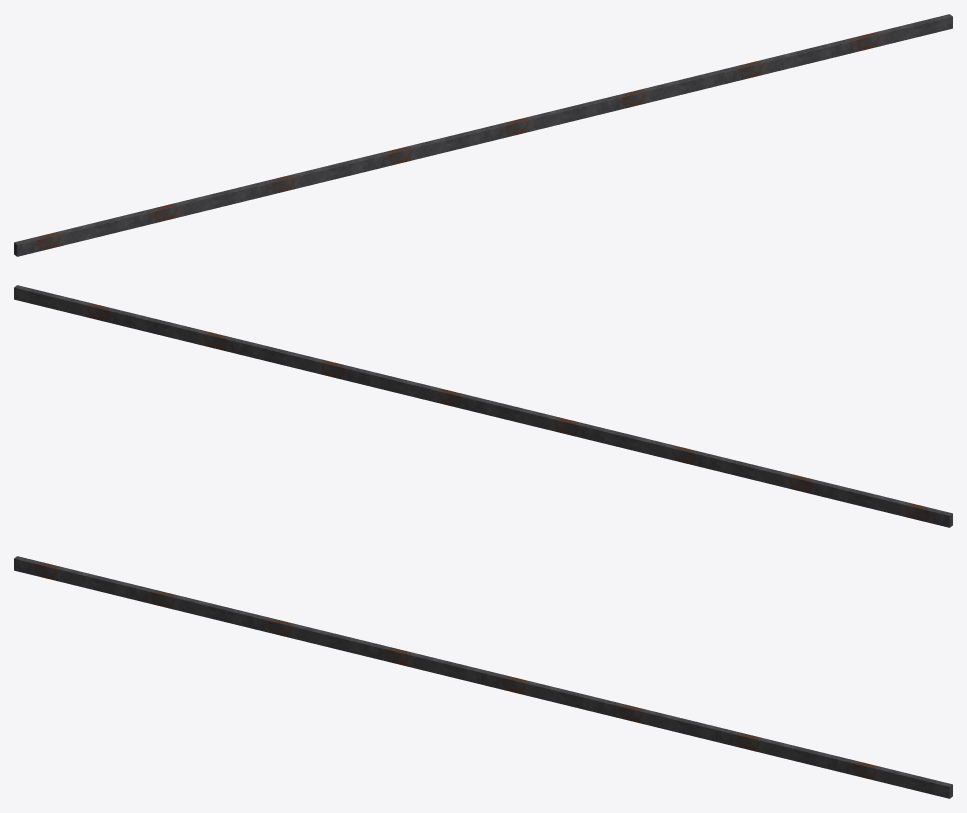
File: COB-MET-001_anim.glb
3 views of the same model, one above another, from view 1: azimuth 30°, elevation 25°; view 2: azimuth 150°, elevation 25°; view 3: azimuth 330°, elevation 25° (orthographic).
Parts seen in each view (by area): view 1: COB-MET-001_anim0; view 2: COB-MET-001_anim0; view 3: COB-MET-001_anim0.
Boxes of the visible parts, left/top/right/bottom form: COB-MET-001_anim0: left=14, top=14, right=952, bottom=256; COB-MET-001_anim0: left=14, top=285, right=952, bottom=527; COB-MET-001_anim0: left=14, top=556, right=952, bottom=798.
Bounding box in the file's own units: 8 × 0.101 × 0.0498.
Materials: 1 (1 with a texture image).
